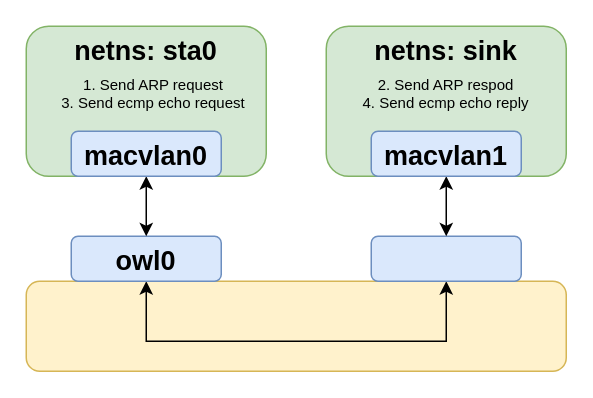
The diagram is 593 pixels wide and 398 high, and some of its shapes have lost their labels. Here are the shapes that lost their labels. From the top down, the box of each, then its label:
(370, 235, 521, 281): owl0sink
(25, 280, 566, 371): vwifi driver
